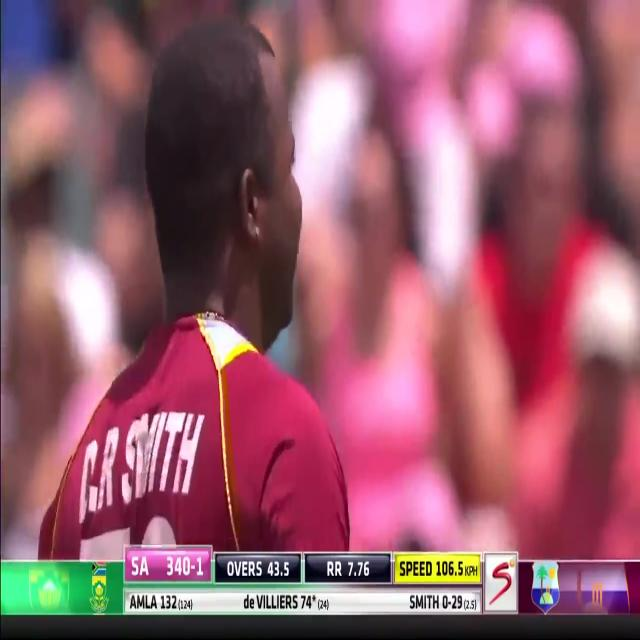Fielder: (14, 1, 368, 555)
